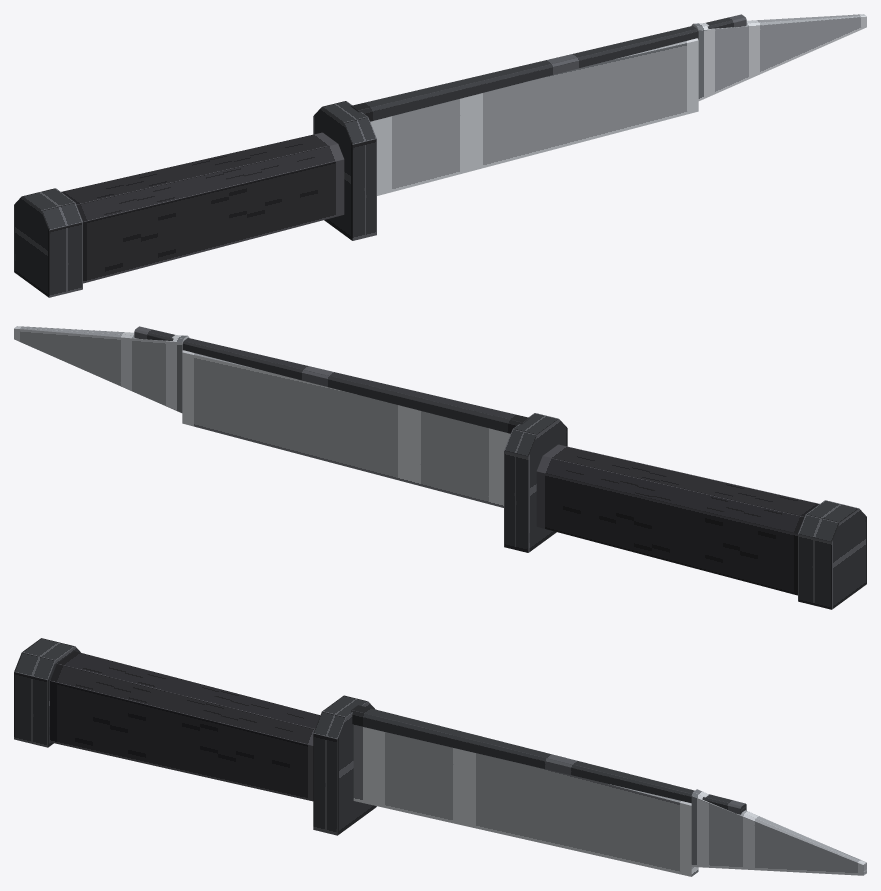
The model's file is Knife.glb.
3 renders of one model, top to bottom at view 1: azimuth 30°, elevation 25°; view 2: azimuth 150°, elevation 25°; view 3: azimuth 330°, elevation 25°, orthographic.
Parts seen in each view (by area): view 1: Knife; view 2: Knife; view 3: Knife.
Part boxes in pixels (x1,y1,x2,y2): Knife: (14, 14, 866, 297); Knife: (14, 326, 866, 609); Knife: (14, 638, 866, 876).
Bounding box in the file's own units: 0.343 × 0.0445 × 0.028.
1 material, 1 textured.
